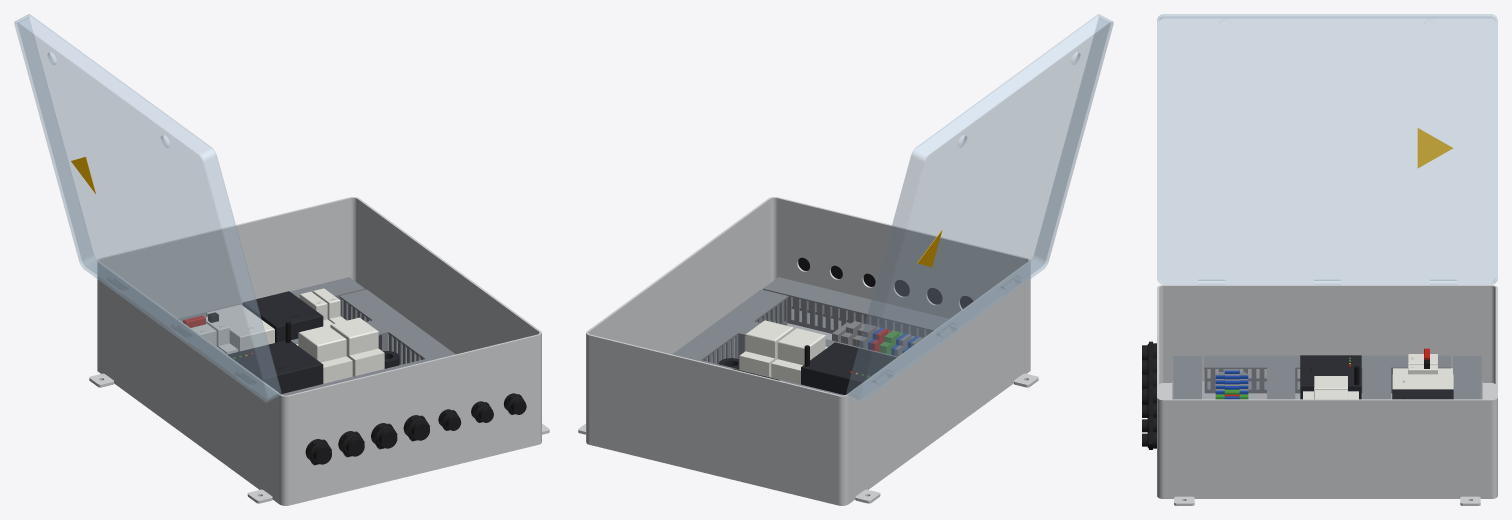
Rendered from ada_panel.glb.
3 renders of one model, left to right at view 1: azimuth 30°, elevation 25°; view 2: azimuth 150°, elevation 25°; view 3: azimuth 270°, elevation 25°, orthographic. The views are drawn at different scales.
Parts seen in each view (by area): view 1: enclosure, cover_clear, A1_ADA_controller_ESP32, duct_right_lid, PM1_PZEM_004T, K1_contactor_pump_25A, K2_contactor_AC_25A, PS1_DIN_PSU_24V, duct_top_lid, duct_right; view 2: enclosure, cover_clear, A1_ADA_controller_ESP32, duct_bottom_lid, duct_right_lid, duct_bottom, K1_contactor_pump_25A, K2_contactor_AC_25A, duct_right; view 3: cover_clear, enclosure, duct_left_lid, A1_ADA_controller_ESP32, duct_bottom_lid, duct_top_lid, PS1_DIN_PSU_24V, duct_mid_1_lid, duct_mid_2_lid, duct_left, warning_label, PM1_PZEM_004T (+3 smaller).
Boxes of the visible parts, bbox=[...] form: enclosure: bbox=[89, 197, 549, 505]; cover_clear: bbox=[14, 14, 281, 402]; A1_ADA_controller_ESP32: bbox=[227, 340, 323, 393]; duct_right_lid: bbox=[339, 289, 455, 360]; PM1_PZEM_004T: bbox=[242, 291, 323, 342]; K1_contactor_pump_25A: bbox=[296, 325, 352, 383]; K2_contactor_AC_25A: bbox=[330, 317, 384, 376]; PS1_DIN_PSU_24V: bbox=[206, 304, 274, 351]; duct_top_lid: bbox=[178, 277, 364, 321]; duct_right: bbox=[340, 298, 423, 364]; enclosure: bbox=[578, 197, 1038, 505]; cover_clear: bbox=[846, 14, 1113, 402]; A1_ADA_controller_ESP32: bbox=[801, 342, 896, 394]; duct_bottom_lid: bbox=[763, 277, 949, 331]; duct_right_lid: bbox=[672, 289, 788, 360]; duct_bottom: bbox=[787, 296, 932, 337]; K1_contactor_pump_25A: bbox=[771, 328, 827, 384]; K2_contactor_AC_25A: bbox=[739, 320, 793, 376]; duct_right: bbox=[702, 298, 787, 364]; cover_clear: bbox=[1157, 14, 1497, 284]; enclosure: bbox=[1157, 285, 1497, 505]; duct_left_lid: bbox=[1204, 355, 1450, 368]; A1_ADA_controller_ESP32: bbox=[1300, 355, 1361, 399]; duct_bottom_lid: bbox=[1173, 356, 1201, 399]; duct_top_lid: bbox=[1453, 356, 1481, 399]; PS1_DIN_PSU_24V: bbox=[1392, 374, 1453, 389]; duct_mid_1_lid: bbox=[1362, 367, 1390, 399]; duct_mid_2_lid: bbox=[1267, 367, 1295, 399]; duct_left: bbox=[1204, 369, 1392, 393]; warning_label: bbox=[1417, 128, 1452, 168]; PM1_PZEM_004T: bbox=[1392, 389, 1453, 399].
Size of the model in its own units: 550 by 546 by 522.
